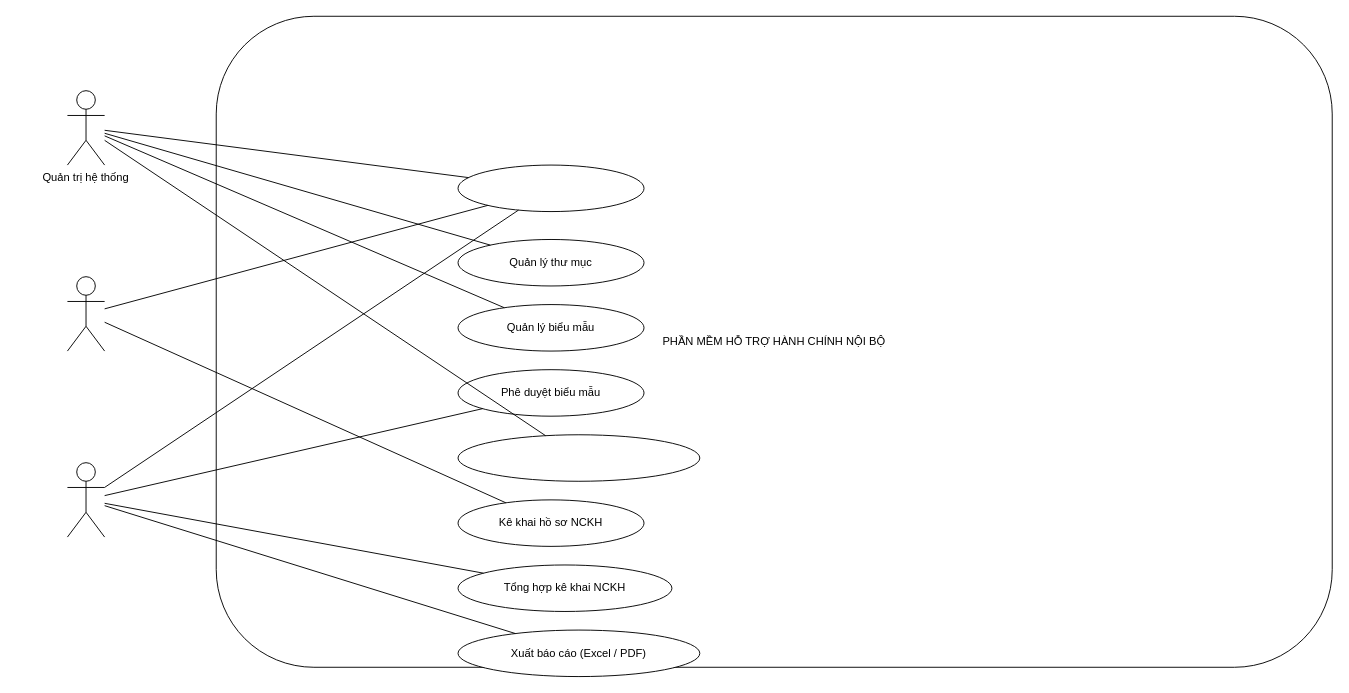
This 1349x693 diagram has some shape labels left out. Here are the shapes that lost their labels. From the top down, the box of each, then its label:
(457, 164, 644, 212): Đăng nhập hệ thống
(66, 276, 105, 351): Cán bộ
(457, 434, 700, 481): Quản lý danh mục kê khai NCKH
(66, 462, 105, 537): Lãnh đạo / Người phê duyệt
